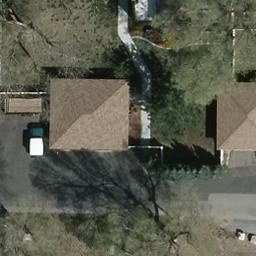car: (29, 127, 47, 158)
